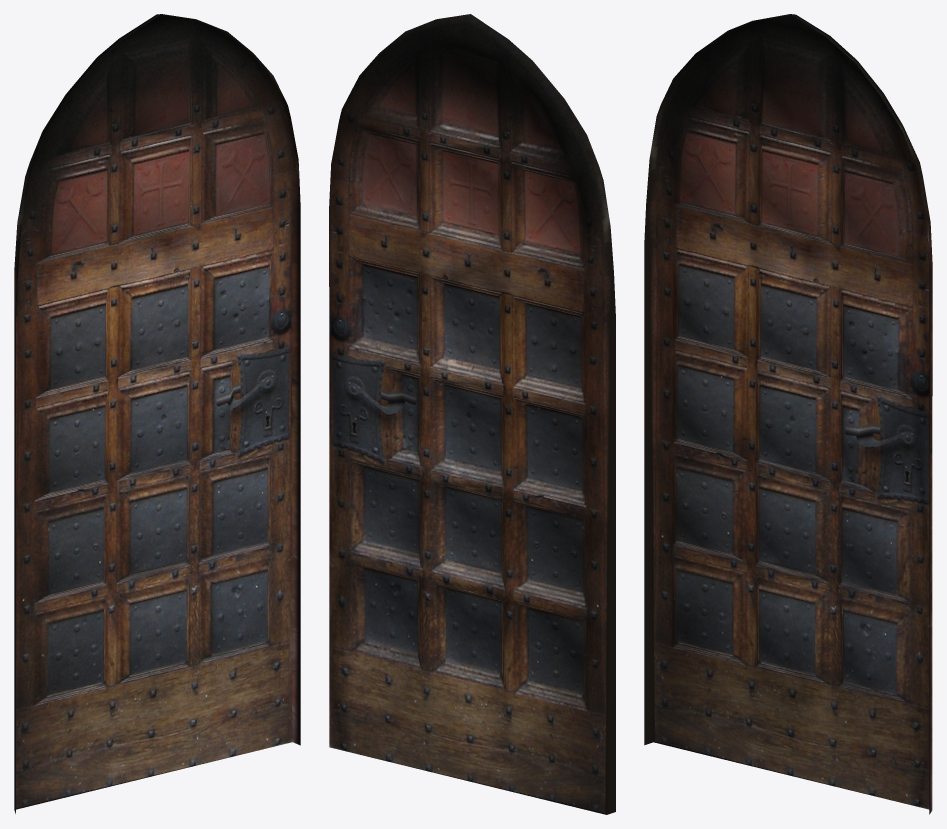
Rendered from SM_DoorSmall.FBX.
The picture shows the model from 3 angles, left to right: view 1: azimuth 30°, elevation 25°; view 2: azimuth 150°, elevation 25°; view 3: azimuth 330°, elevation 25°; orthographic projection.
Parts seen in each view (by area): view 1: SM_DoorSmall; view 2: SM_DoorSmall; view 3: SM_DoorSmall.
Boxes of the visible parts, <box> form: SM_DoorSmall: <box>14,14,300,813</box>; SM_DoorSmall: <box>329,14,615,814</box>; SM_DoorSmall: <box>644,14,932,814</box>.
Size of what is drawn, in the model's own units: 128 by 4.29 by 329.
